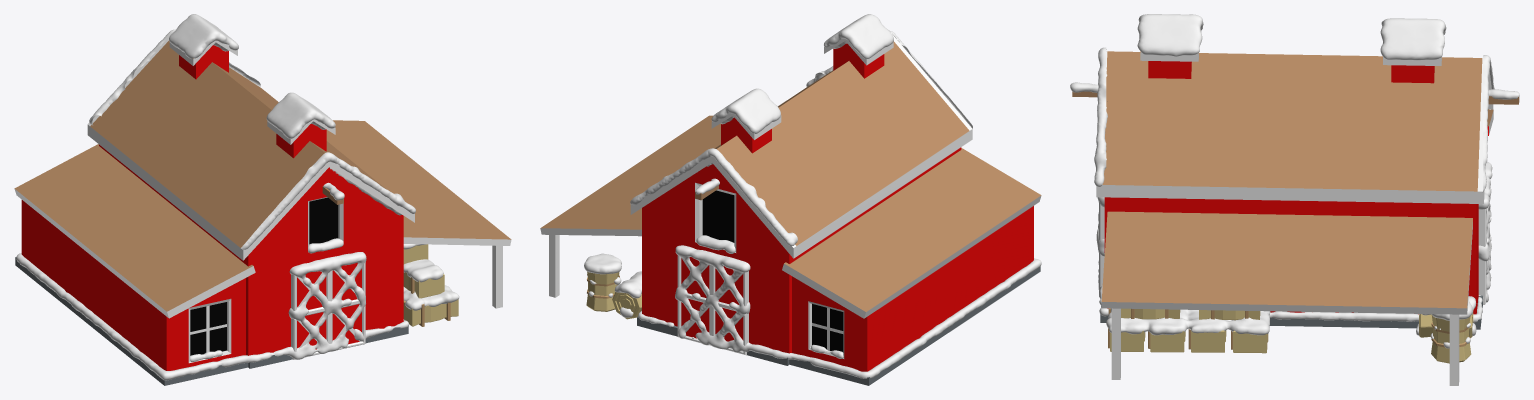
Rendered from Barn Snow.fbx.
3 views of the same model, side by side, from view 1: azimuth 30°, elevation 25°; view 2: azimuth 150°, elevation 25°; view 3: azimuth 270°, elevation 25° (orthographic). The views are drawn at different scales.
Parts seen in each view (by area): view 1: Box003.006, SnowBall.001; view 2: Box003.006, SnowBall.001; view 3: Box003.006, SnowBall.001.
Part boxes in pixels (box(x1,y1,x2,y2)): Box003.006: box(14, 31, 511, 385); SnowBall.001: box(16, 14, 459, 380); Box003.006: box(540, 33, 1041, 385); SnowBall.001: box(584, 14, 1041, 378); Box003.006: box(1072, 30, 1519, 385); SnowBall.001: box(1070, 14, 1519, 348).
Size of the model in its own units: 450 by 281 by 429.
